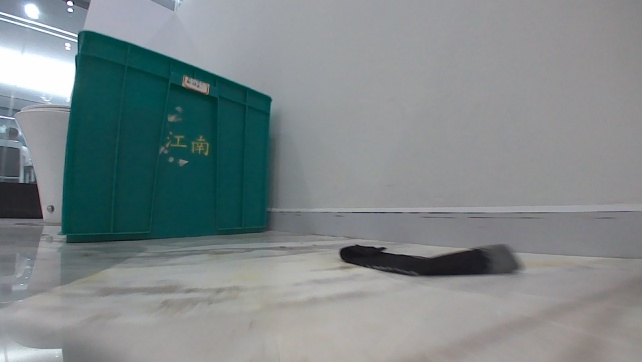socks: (335, 237, 525, 282)
toilet: (12, 103, 72, 225)
